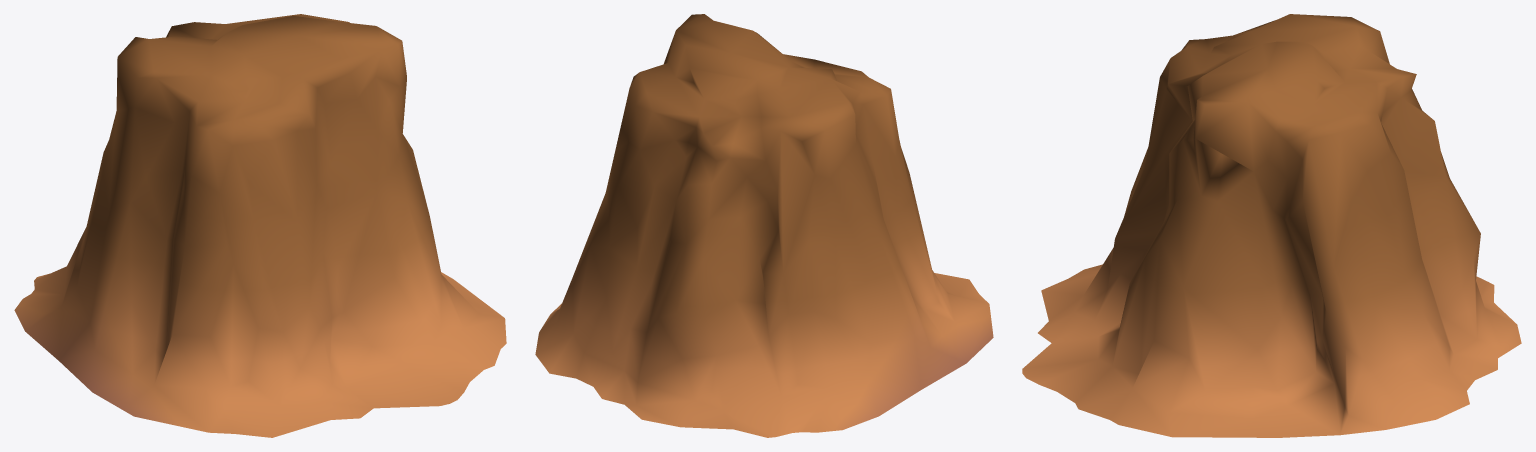
File: Mountain 1.glb
The picture shows the model from 3 angles, left to right: view 1: azimuth 30°, elevation 25°; view 2: azimuth 150°, elevation 25°; view 3: azimuth 270°, elevation 25°; orthographic projection. The views are drawn at different scales.
Visible parts, largest first — view 1: Mountain1; view 2: Mountain1; view 3: Mountain1.
Part boxes in pixels (x1,y1,x2,y2): Mountain1: (14, 14, 506, 437); Mountain1: (535, 14, 993, 437); Mountain1: (1022, 14, 1521, 437).
Size of what is drawn, in the model's own units: 13.49 by 9.56 by 14.9.
Materials: 1 (1 with a texture image).
